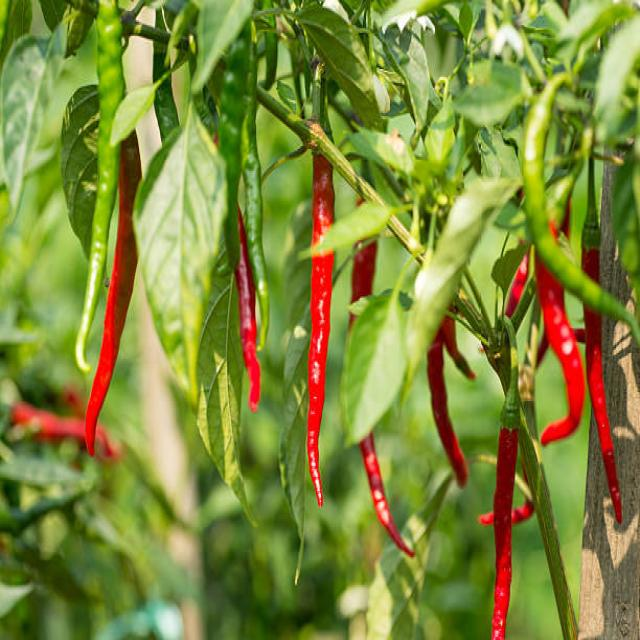Ripe: (85, 133, 141, 455), (536, 255, 585, 443), (584, 306, 621, 522), (359, 436, 414, 556), (308, 251, 332, 505), (491, 428, 518, 638), (235, 208, 260, 412), (311, 154, 335, 247), (505, 253, 528, 316)
Unripe: (522, 73, 640, 344), (75, 0, 125, 373), (242, 45, 269, 348)
